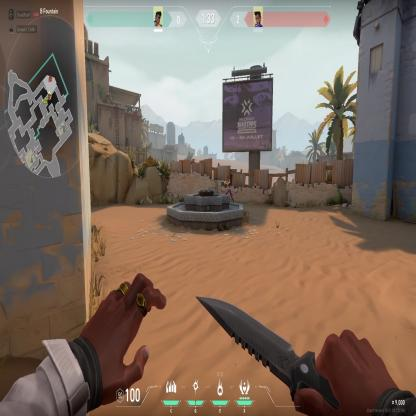enemy: (225, 176, 234, 202)
